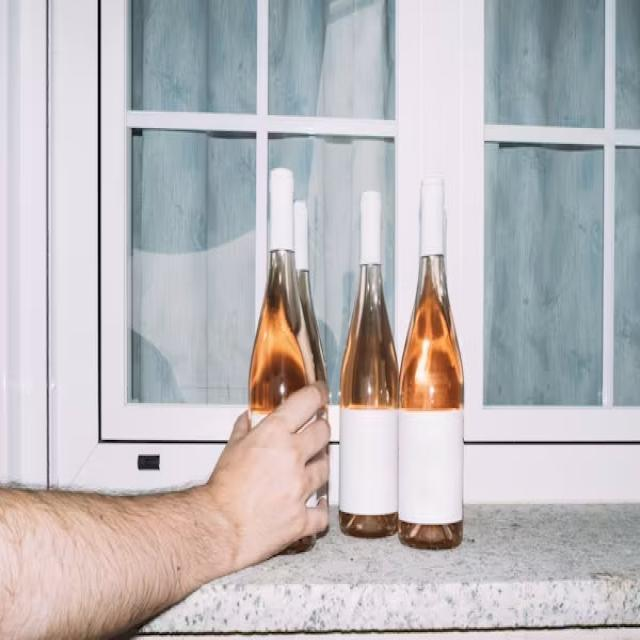Bottle: (398, 180, 462, 548), (340, 191, 397, 537), (249, 168, 314, 427), (294, 200, 327, 383), (295, 200, 327, 382)
